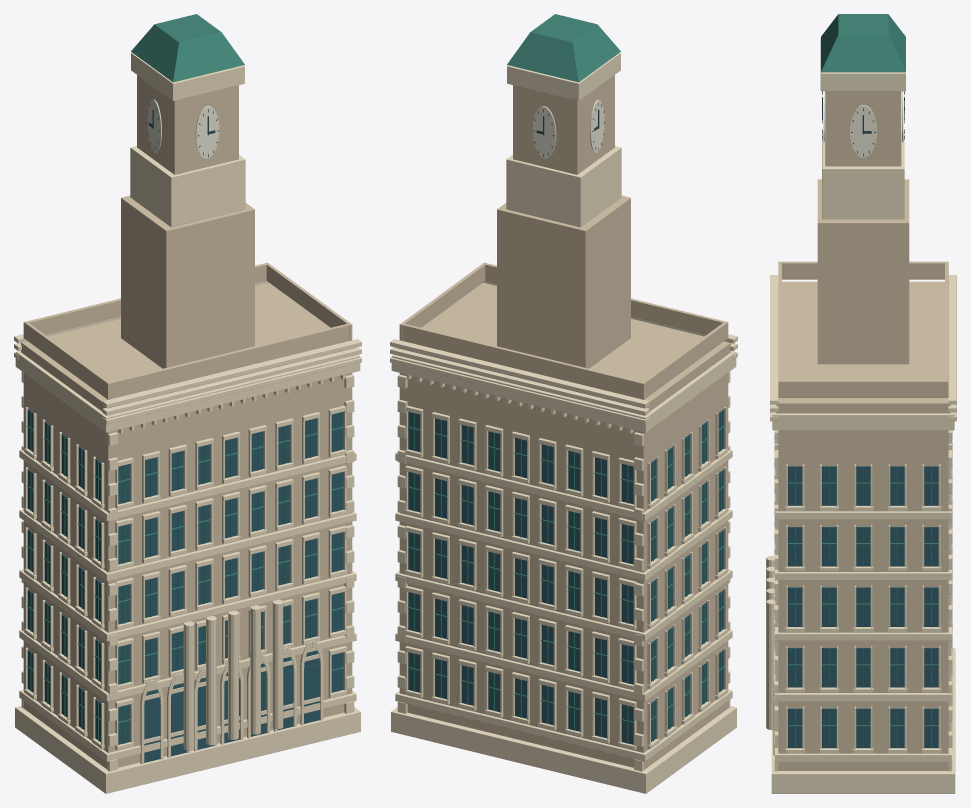
File: customs-house.glb
3 views of the same model, side by side, from view 1: azimuth 30°, elevation 25°; view 2: azimuth 150°, elevation 25°; view 3: azimuth 270°, elevation 25° (orthographic).
Visible parts, largest first — view 1: customs-house; view 2: customs-house; view 3: customs-house.
Boxes of the visible parts, x1=… form: customs-house: x1=14, y1=14, x2=361, y2=793; customs-house: x1=390, y1=14, x2=737, y2=793; customs-house: x1=766, y1=14, x2=956, y2=793.
Size of the model in its own units: 34.29 by 90 by 22.
